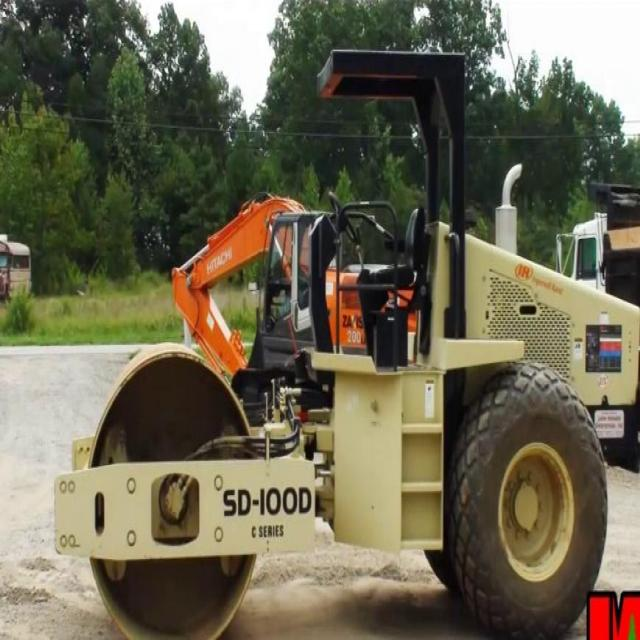Roller: (51, 41, 639, 638)
